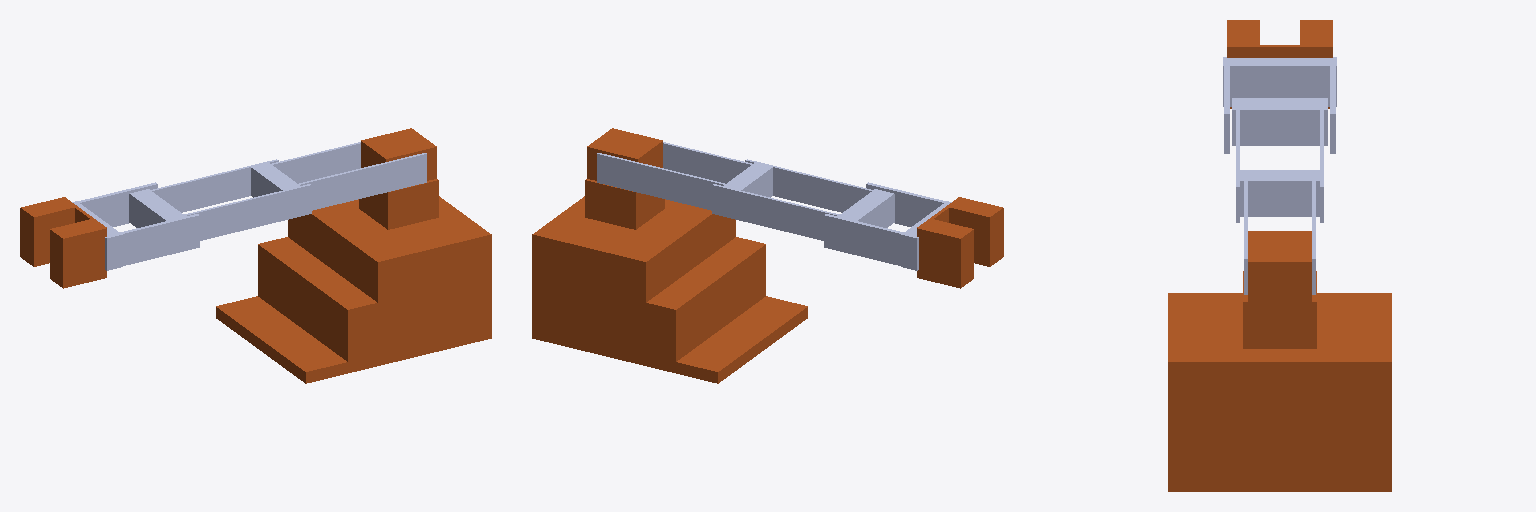
URDF robot description (Robot_URDF_Collisions_V2):
<?xml version="1.0" encoding="utf-8"?>
<!-- This URDF was automatically created by SolidWorks to URDF Exporter! Originally created by [author] ([email redacted]) 
     Commit Version: 1.6.0-4-g7f85cfe  Build Version: 1.6.7995.38578
     For more information, please see http://wiki.ros.org/sw_urdf_exporter -->
<robot
  name="Robot_URDF_Collisions_V2">
  <link
    name="Base_Link_Collision">
    <inertial>
      <origin
        xyz="-0.020496 -1.2099E-17 0.041301"
        rpy="0 0 0" />
      <mass
        value="1.5719" />
      <inertia
        ixx="0.0036754"
        ixy="3.2894E-19"
        ixz="-0.00037791"
        iyy="0.0034107"
        iyz="1.9178E-20"
        izz="0.0049558" />
    </inertial>
    <visual>
      <origin
        xyz="0 0 0"
        rpy="0 0 0" />
      <geometry>
        <mesh
          filename="package://Robot_URDF_Collisions_V2/meshes/Base_Link_Collision.STL" />
      </geometry>
      <material
        name="">
        <color
          rgba="0.76078 0.4 0.18039 0.3" />
      </material>
    </visual>
    <collision>
      <origin
        xyz="0 0 0"
        rpy="0 0 0" />
      <geometry>
        <mesh
          filename="package://Robot_URDF_Collisions_V2/meshes/Base_Link_Collision.STL" />
      </geometry>
    </collision>
  </link>
  <link
    name="Link_1_Collision">
    <inertial>
      <origin
        xyz="-3.8377E-18 7.2245E-19 0.028951"
        rpy="0 0 0" />
      <mass
        value="0.11977" />
      <inertia
        ixx="5.4579E-05"
        ixy="1.935E-21"
        ixz="-6.7437E-21"
        iyy="5.6798E-05"
        iyz="-5.9115E-21"
        izz="4.0198E-05" />
    </inertial>
    <visual>
      <origin
        xyz="0 0 0"
        rpy="0 0 0" />
      <geometry>
        <mesh
          filename="package://Robot_URDF_Collisions_V2/meshes/Link_1_Collision.STL" />
      </geometry>
      <material
        name="">
        <color
          rgba="0.76078 0.4 0.18039 0.3" />
      </material>
    </visual>
    <collision>
      <origin
        xyz="0 0 0"
        rpy="0 0 0" />
      <geometry>
        <mesh
          filename="package://Robot_URDF_Collisions_V2/meshes/Link_1_Collision.STL" />
      </geometry>
    </collision>
  </link>
  <joint
    name="Joint1"
    type="revolute">
    <origin
      xyz="0 0 0.09"
      rpy="0 0 0" />
    <parent
      link="Base_Link_Collision" />
    <child
      link="Link_1_Collision" />
    <axis
      xyz="0 0 -1" />
    <limit
      lower="-1.57"
      upper="1.57"
      effort="10"
      velocity="100" />
  </joint>
  <link
    name="Link_2_Collision">
    <inertial>
      <origin
        xyz="-0.08404 -0.0225 0"
        rpy="0 0 0" />
      <mass
        value="0.035" />
      <inertia
        ixx="1.2637E-05"
        ixy="-8.0909E-20"
        ixz="-2.9657E-21"
        iyy="5.5313E-05"
        iyz="3.3571E-21"
        izz="6.4304E-05" />
    </inertial>
    <visual>
      <origin
        xyz="0 0 0"
        rpy="0 0 0" />
      <geometry>
        <mesh
          filename="package://Robot_URDF_Collisions_V2/meshes/Link_2_Collision.STL" />
      </geometry>
      <material
        name="">
        <color
          rgba="0.79216 0.81961 0.93333 1" />
      </material>
    </visual>
    <collision>
      <origin
        xyz="0 0 0"
        rpy="0 0 0" />
      <geometry>
        <mesh
          filename="package://Robot_URDF_Collisions_V2/meshes/Link_2_Collision.STL" />
      </geometry>
    </collision>
  </link>
  <joint
    name="Joint2"
    type="revolute">
    <origin
      xyz="0 0.0225 0.045"
      rpy="0 0 0" />
    <parent
      link="Link_1_Collision" />
    <child
      link="Link_2_Collision" />
    <axis
      xyz="0 -1 0" />
    <limit
      lower="-1.57"
      upper="1.57"
      effort="10"
      velocity="100" />
  </joint>
  <link
    name="Link_3_Collision">
    <inertial>
      <origin
        xyz="-0.087452 -0.0275 0"
        rpy="0 0 0" />
      <mass
        value="0.040535" />
      <inertia
        ixx="1.9849E-05"
        ixy="-6.0561E-20"
        ixz="-6.5132E-21"
        iyy="5.8759E-05"
        iyz="1.6303E-20"
        izz="7.4385E-05" />
    </inertial>
    <visual>
      <origin
        xyz="0 0 0"
        rpy="0 0 0" />
      <geometry>
        <mesh
          filename="package://Robot_URDF_Collisions_V2/meshes/Link_3_Collision.STL" />
      </geometry>
      <material
        name="">
        <color
          rgba="0.79216 0.81961 0.93333 1" />
      </material>
    </visual>
    <collision>
      <origin
        xyz="0 0 0"
        rpy="0 0 0" />
      <geometry>
        <mesh
          filename="package://Robot_URDF_Collisions_V2/meshes/Link_3_Collision.STL" />
      </geometry>
    </collision>
  </link>
  <joint
    name="Joint3"
    type="revolute">
    <origin
      xyz="-0.107 0.005 0"
      rpy="0 0 0" />
    <parent
      link="Link_2_Collision" />
    <child
      link="Link_3_Collision" />
    <axis
      xyz="0 -1 0" />
    <limit
      lower="-1.57"
      upper="1.57"
      effort="10"
      velocity="100" />
  </joint>
  <link
    name="Link_4_Collision">
    <inertial>
      <origin
        xyz="-0.050083 -0.035 5.5511E-17"
        rpy="0 0 0" />
      <mass
        value="0.042878" />
      <inertia
        ixx="3.0659E-05"
        ixy="-8.1522E-21"
        ixz="6.8123E-21"
        iyy="2.5977E-05"
        iyz="2.7439E-21"
        izz="5.1033E-05" />
    </inertial>
    <visual>
      <origin
        xyz="0 0 0"
        rpy="0 0 0" />
      <geometry>
        <mesh
          filename="package://Robot_URDF_Collisions_V2/meshes/Link_4_Collision.STL" />
      </geometry>
      <material
        name="">
        <color
          rgba="0.79216 0.81961 0.93333 1" />
      </material>
    </visual>
    <collision>
      <origin
        xyz="0 0 0"
        rpy="0 0 0" />
      <geometry>
        <mesh
          filename="package://Robot_URDF_Collisions_V2/meshes/Link_4_Collision.STL" />
      </geometry>
    </collision>
  </link>
  <joint
    name="Joint4"
    type="revolute">
    <origin
      xyz="-0.107 0.0075 0"
      rpy="0 0 0" />
    <parent
      link="Link_3_Collision" />
    <child
      link="Link_4_Collision" />
    <axis
      xyz="0 1 0" />
    <limit
      lower="-1.57"
      upper="1.57"
      effort="10"
      velocity="100" />
  </joint>
  <link
    name="End_Effector_Collision">
    <inertial>
      <origin
        xyz="-0.008713 -0.013 -5.5511E-17"
        rpy="0 0 0" />
      <mass
        value="0.075698" />
      <inertia
        ixx="5.2688E-05"
        ixy="-4.4891E-23"
        ixz="-8.4204E-22"
        iyy="2.2364E-05"
        iyz="-8.3488E-21"
        izz="5.1763E-05" />
    </inertial>
    <visual>
      <origin
        xyz="0 0 0"
        rpy="0 0 0" />
      <geometry>
        <mesh
          filename="package://Robot_URDF_Collisions_V2/meshes/End_Effector_Collision.STL" />
      </geometry>
      <material
        name="">
        <color
          rgba="0.76078 0.4 0.18039 0.3" />
      </material>
    </visual>
    <collision>
      <origin
        xyz="0 0 0"
        rpy="0 0 0" />
      <geometry>
        <mesh
          filename="package://Robot_URDF_Collisions_V2/meshes/End_Effector_Collision.STL" />
      </geometry>
    </collision>
  </link>
  <joint
    name="Joint5"
    type="fixed">
    <origin
      xyz="-0.079479 -0.022 0"
      rpy="0 0 0" />
    <parent
      link="Link_4_Collision" />
    <child
      link="End_Effector_Collision" />
    <axis
      xyz="0 0 0" />
  </joint>
</robot>

--- Facts derived from the render (not from the file) ---
3 views of the same robot in one strip: view 1: azimuth 30°, elevation 25°; view 2: azimuth 150°, elevation 25°; view 3: azimuth 270°, elevation 25° (orthographic).
Robot: Robot_URDF_Collisions_V2 — 6 links, 5 joints (4 revolute, 1 fixed); root link Base_Link_Collision; default pose: every joint at zero.
Visible links, largest first — view 1: Base_Link_Collision, Link_3_Collision, Link_2_Collision, End_Effector_Collision, Link_4_Collision, Link_1_Collision; view 2: Base_Link_Collision, Link_3_Collision, Link_2_Collision, End_Effector_Collision, Link_4_Collision, Link_1_Collision; view 3: Base_Link_Collision, Link_1_Collision, Link_4_Collision, Link_3_Collision, Link_2_Collision, End_Effector_Collision.
Link boxes in pixels (box(x1,y1,x2,y2)): Base_Link_Collision: box(216, 196, 491, 383); Link_3_Collision: box(129, 159, 311, 240); Link_2_Collision: box(251, 142, 426, 210); End_Effector_Collision: box(20, 197, 106, 288); Link_4_Collision: box(72, 182, 199, 270); Link_1_Collision: box(359, 128, 438, 229); Base_Link_Collision: box(532, 196, 807, 383); Link_3_Collision: box(712, 159, 894, 240); Link_2_Collision: box(597, 142, 772, 210); End_Effector_Collision: box(917, 197, 1003, 288); Link_4_Collision: box(824, 182, 951, 270); Link_1_Collision: box(585, 128, 664, 229); Base_Link_Collision: box(1168, 293, 1391, 491); Link_1_Collision: box(1243, 231, 1316, 348); Link_4_Collision: box(1223, 57, 1336, 153); Link_3_Collision: box(1232, 98, 1327, 222); Link_2_Collision: box(1240, 170, 1319, 294); End_Effector_Collision: box(1227, 20, 1332, 108).
Bounding box of the posed robot: 0.366 × 0.1412 × 0.1565 m (x, y, z).
6 mesh visuals loaded from 6 distinct referenced files (6 binary STL).